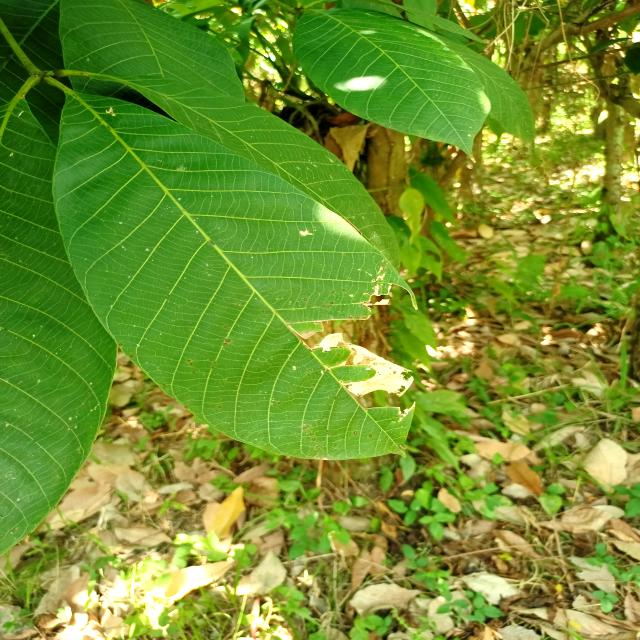Colletotrichum: (316, 444, 322, 450), (353, 431, 358, 436), (302, 426, 307, 431), (306, 424, 311, 428), (224, 325, 229, 329), (129, 354, 134, 358), (225, 339, 231, 342), (310, 432, 314, 436), (331, 290, 335, 294), (189, 362, 193, 366), (369, 433, 372, 438), (329, 301, 334, 304), (223, 343, 228, 346), (184, 405, 189, 408), (312, 438, 316, 441), (312, 383, 316, 386), (304, 298, 308, 301), (187, 360, 191, 362), (218, 406, 222, 408), (308, 373, 310, 376), (342, 289, 345, 291), (238, 304, 241, 306), (278, 402, 280, 404)
Leaf-Blight: (311, 332, 414, 397)
